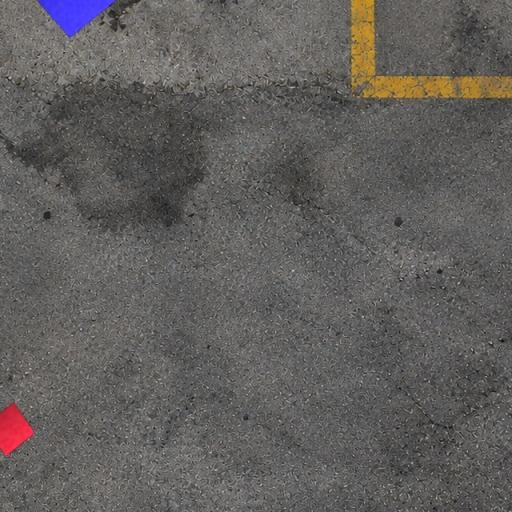BLUE_SQUARE: (21, 0, 124, 38)
RED_SQUARE: (0, 401, 36, 457)
